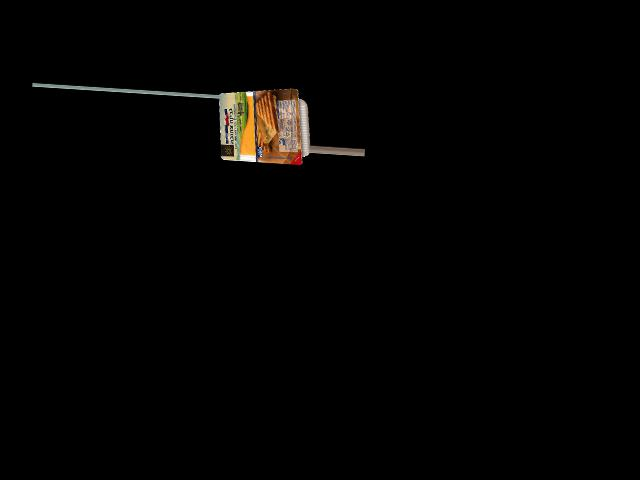cheese: (216, 85, 314, 162)
